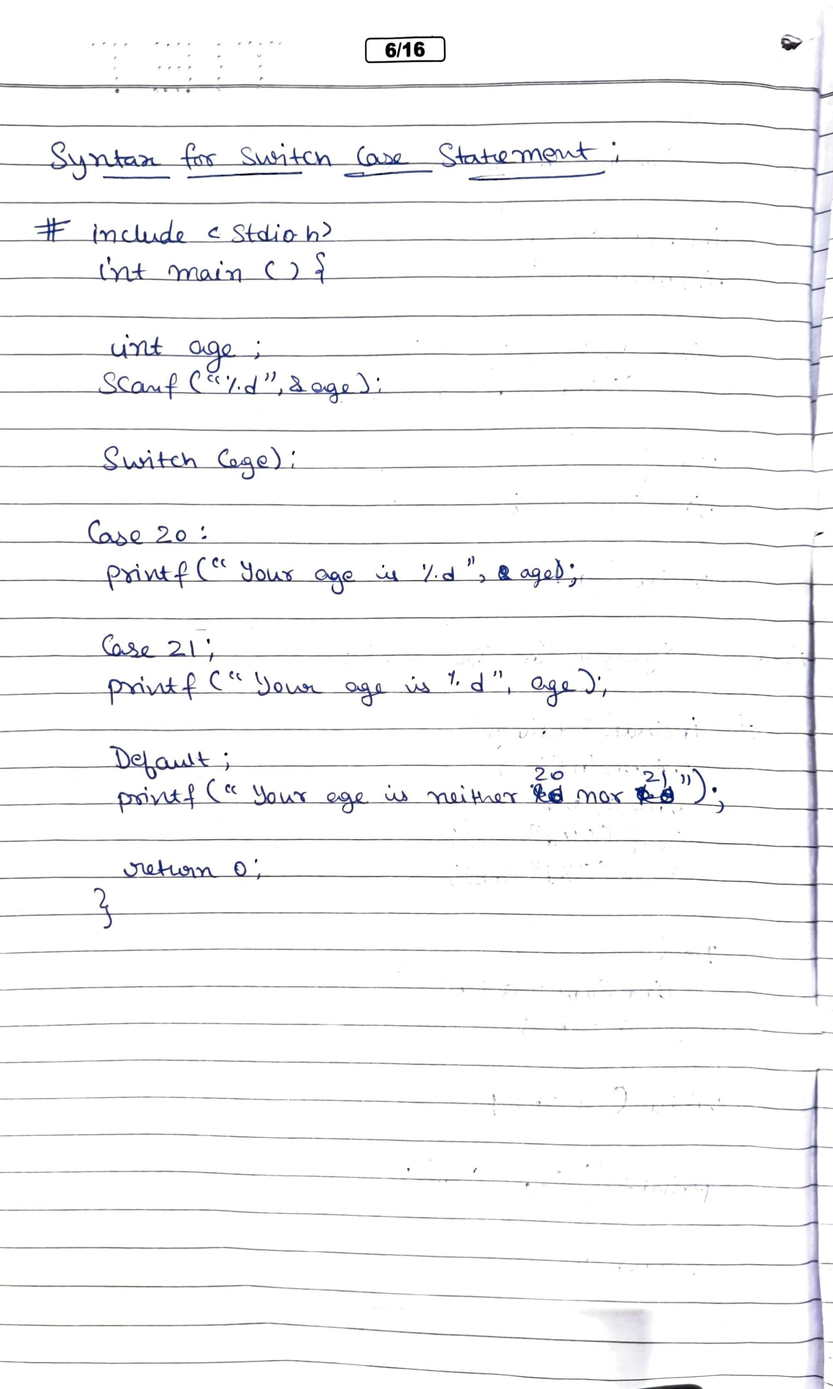cuttings: (632, 783, 675, 807), (530, 782, 565, 805), (497, 564, 512, 581)
